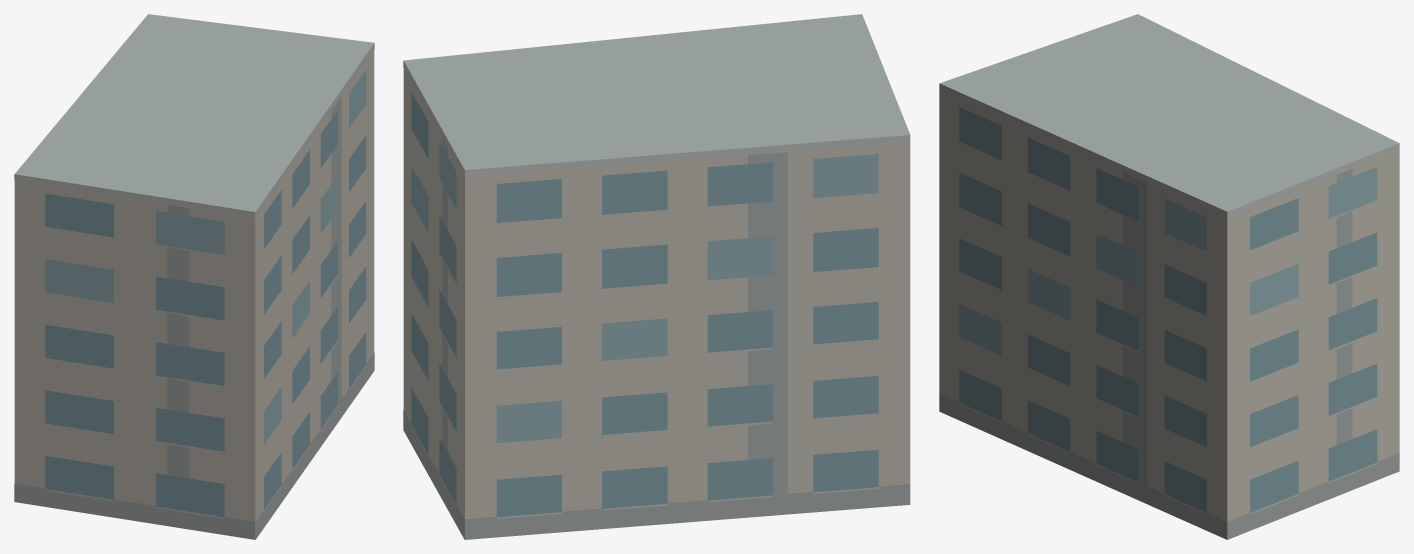
Rendered from survey-upis-32638304.glb.
3 views of the same model, side by side, from view 1: azimuth 30°, elevation 25°; view 2: azimuth 150°, elevation 25°; view 3: azimuth 270°, elevation 25° (orthographic). The views are drawn at different scales.
Parts seen in each view (by area): view 1: survey-upis-32638304.tmp; view 2: survey-upis-32638304.tmp; view 3: survey-upis-32638304.tmp.
Boxes of the visible parts, x1,y1,x2,y2 form: survey-upis-32638304.tmp: (14,14,374,539); survey-upis-32638304.tmp: (403,14,910,539); survey-upis-32638304.tmp: (939,14,1399,539).
Bounding box in the file's own units: 15.64 × 12.1 × 15.38.
